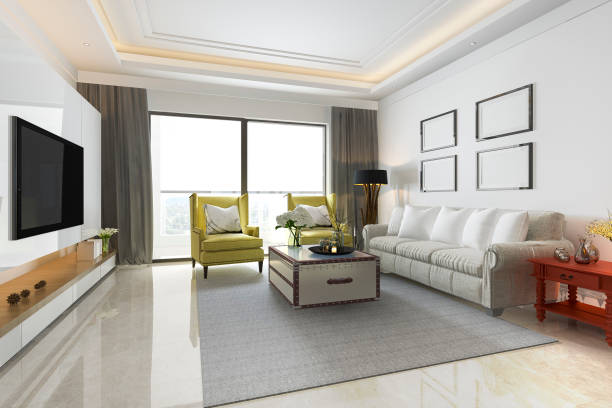TV: (5, 112, 86, 242)
TV stand: (0, 244, 119, 368)
chair: (189, 191, 266, 280), (286, 190, 354, 246)
floor lamp: (352, 166, 389, 223)
sofa: (361, 203, 576, 318)
table: (266, 243, 382, 312)
wall art: (472, 80, 534, 141), (473, 141, 534, 192), (416, 108, 458, 152), (418, 153, 459, 193)
